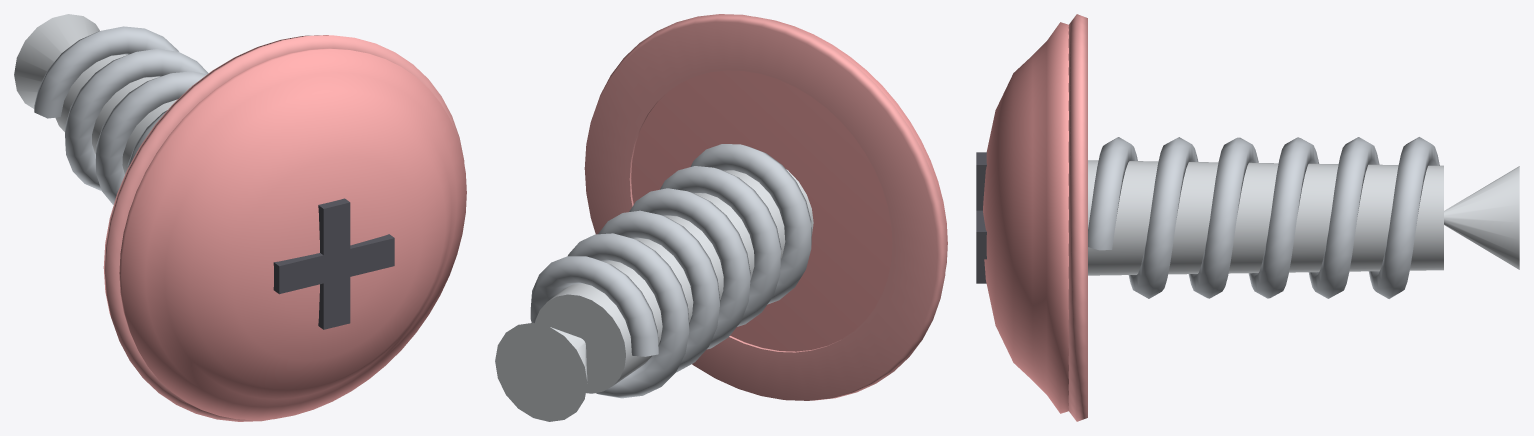
The model's file is screw.glb.
3 views of the same model, side by side, from view 1: azimuth 30°, elevation 25°; view 2: azimuth 150°, elevation 25°; view 3: azimuth 270°, elevation 25° (orthographic).
Parts seen in each view (by area): view 1: head, thread, washer, slot (×2), steel_tip, steel_shaft; view 2: washer, head, thread, steel_shaft, steel_tip; view 3: thread, head, steel_shaft, washer, steel_tip, slot (×2).
Boxes of the visible parts, x1,y1,x2,y2 form: head: (119,48,466,420); thread: (34,26,208,204); washer: (103,35,464,421); slot (×2): (273,198,394,329); steel_tip: (14,14,99,108); steel_shaft: (55,54,177,174); washer: (584,14,946,400); head: (631,16,947,351); thread: (530,144,811,398); steel_shaft: (535,169,813,393); steel_tip: (495,323,587,421); thread: (1088,137,1439,298); head: (983,22,1068,413); steel_shaft: (1088,160,1443,275); washer: (1068,14,1087,421); steel_tip: (1444,166,1519,269); slot (×2): (976,152,986,283).
Bounding box in the file's own units: 0.296 × 0.296 × 0.394.
